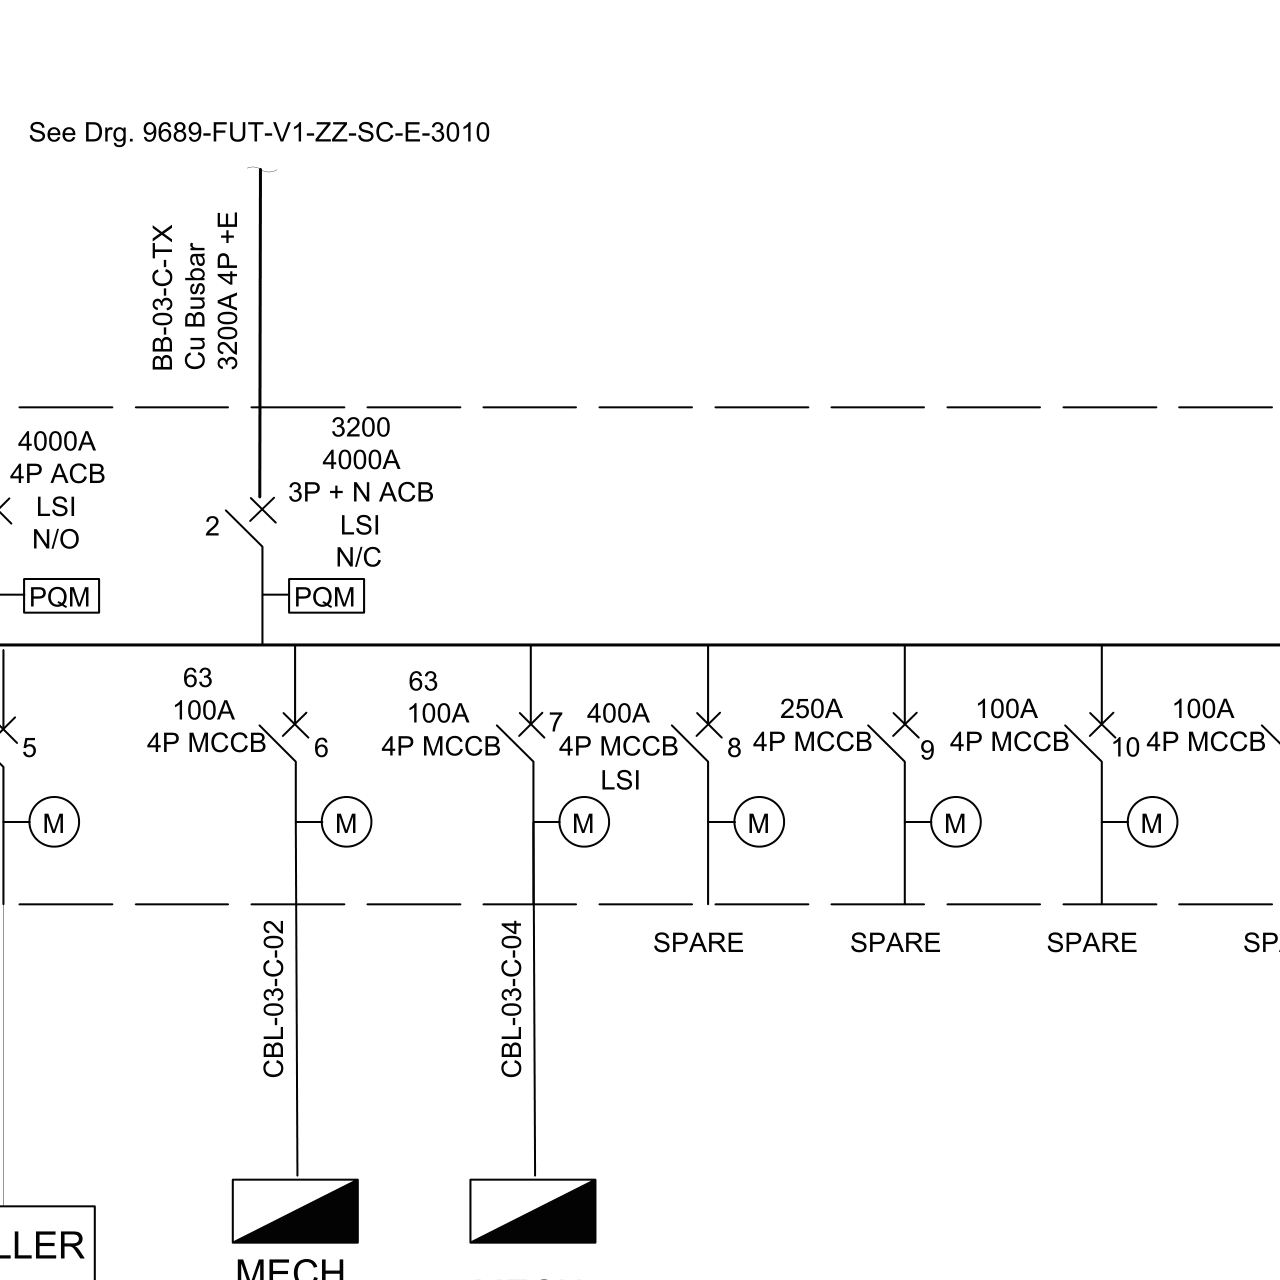Distribution Board: (217, 1167, 373, 1252), (457, 1169, 607, 1252)
